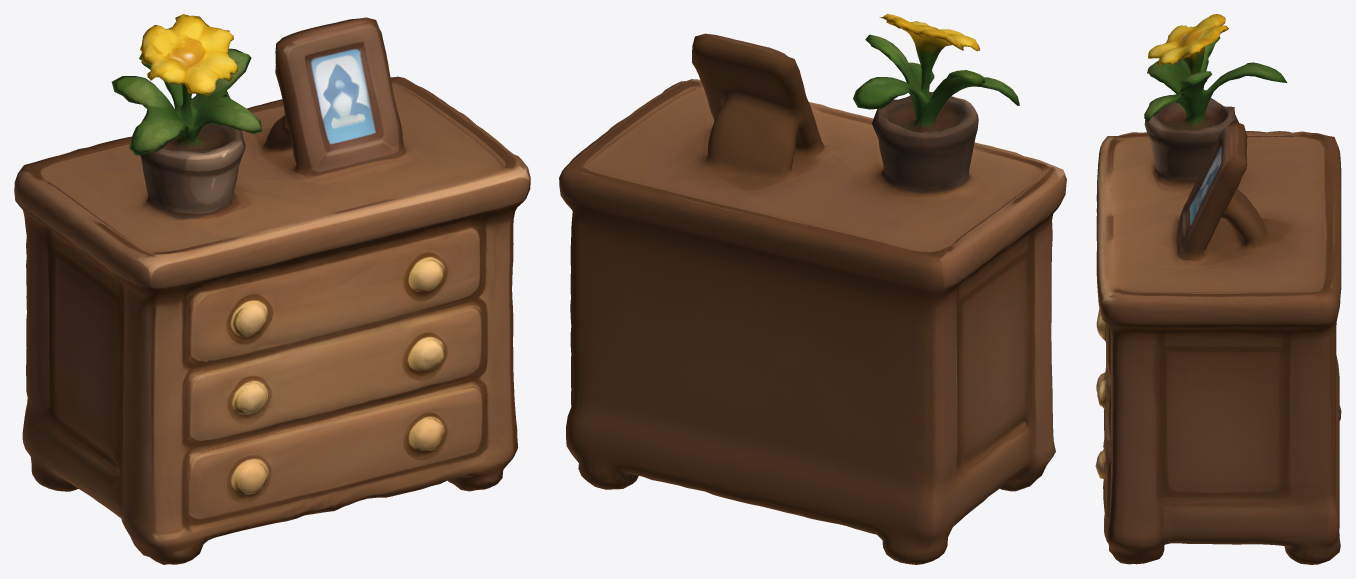
File: Wood_drawer_Cabinet.glb
3 views of the same model, side by side, from view 1: azimuth 30°, elevation 25°; view 2: azimuth 150°, elevation 25°; view 3: azimuth 270°, elevation 25° (orthographic). The views are drawn at different scales.
Visible parts, largest first — view 1: RETOPO; view 2: RETOPO; view 3: RETOPO.
Boxes of the visible parts, box(x1,y1,x2,y2) form: RETOPO: box(14, 14, 530, 564); RETOPO: box(559, 14, 1066, 564); RETOPO: box(1095, 14, 1341, 564).
Bounding box in the file's own units: 0.7786 × 0.9098 × 0.4721.
Materials: 1 (1 with a texture image).
